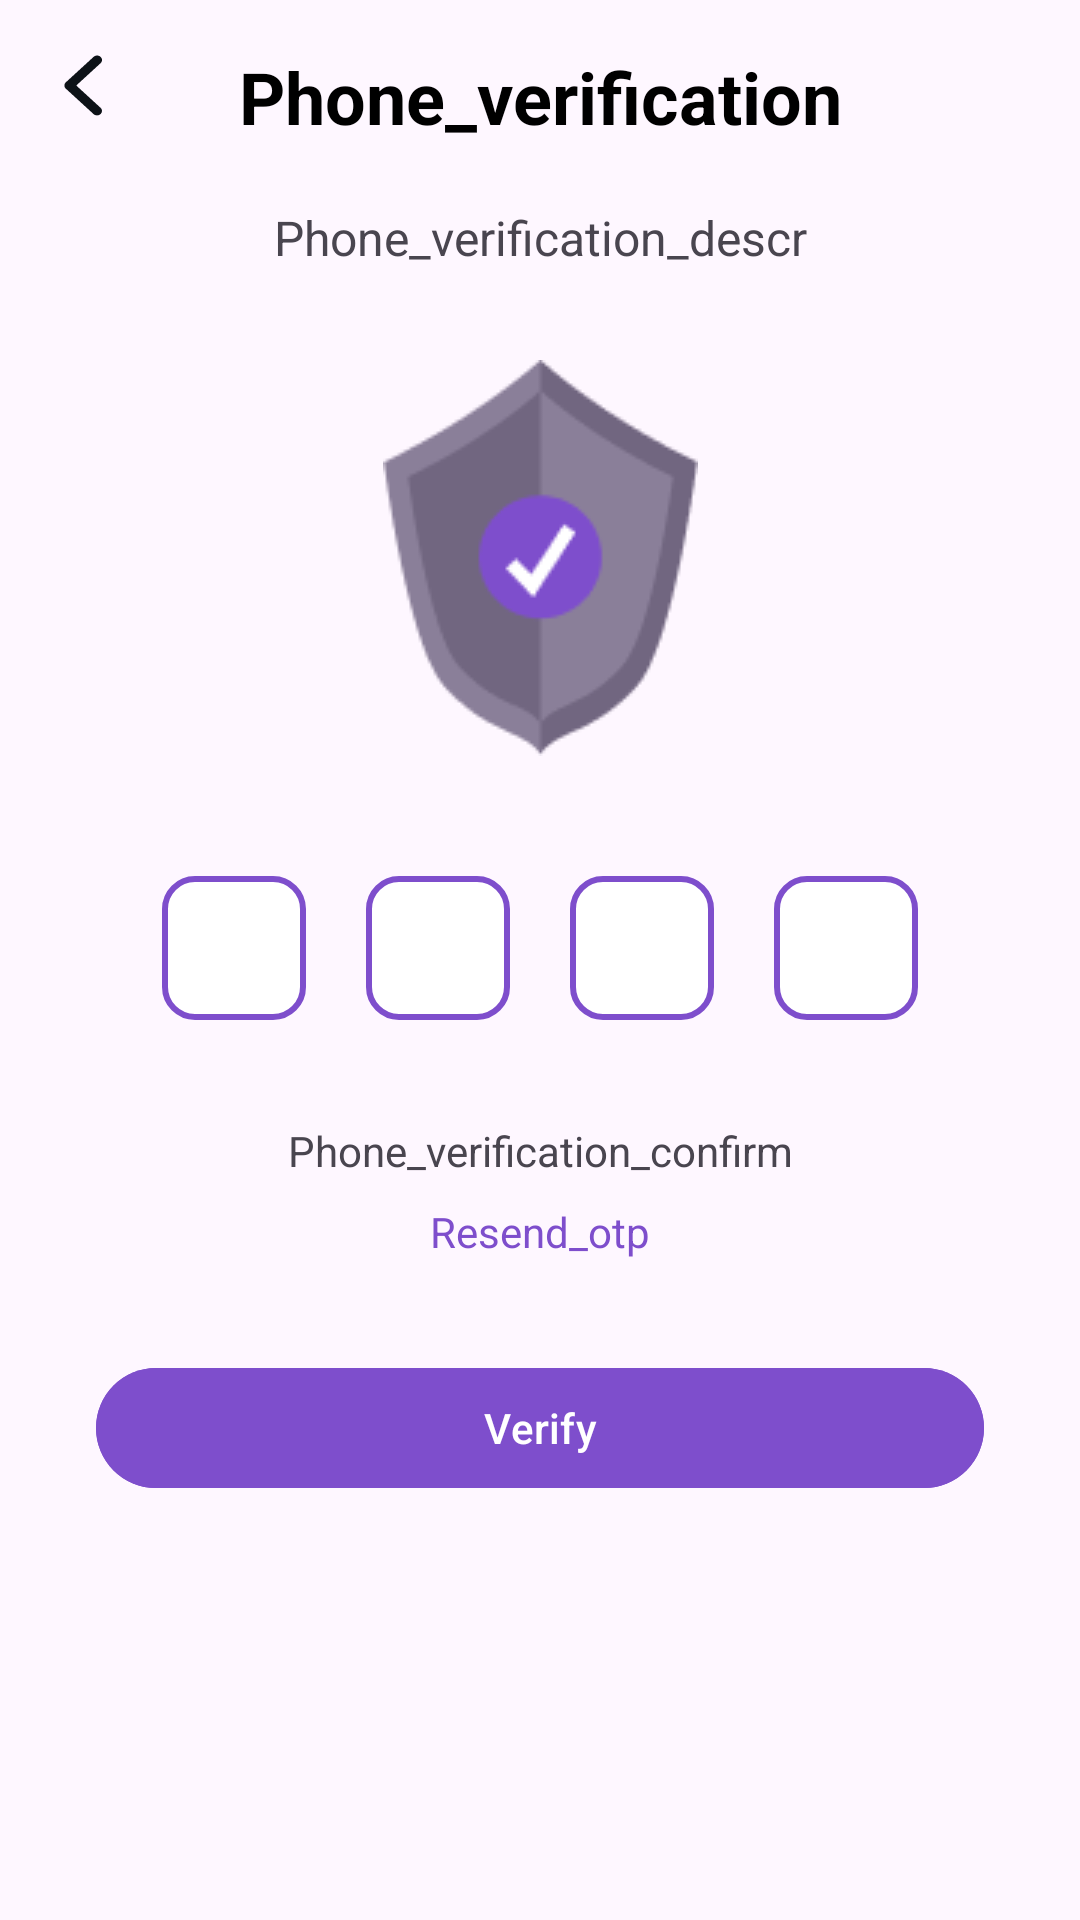

Where icons sit on this 1080w x 1920h app screen, as (x1, y1, x2, y2):
back: (64, 55, 102, 116)
